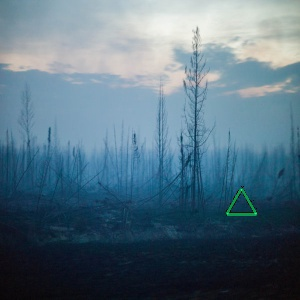triangle: (223, 186, 259, 217)
